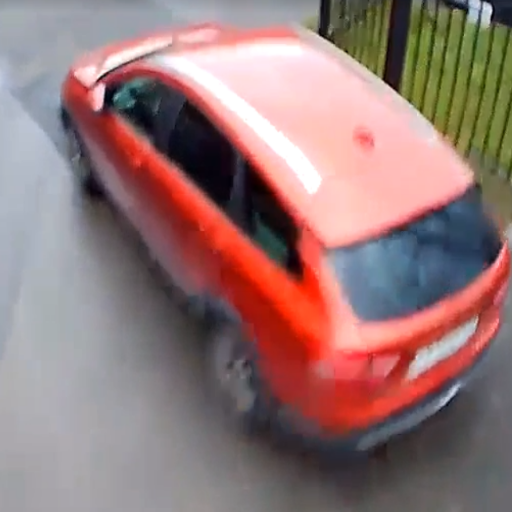Car: (58, 21, 505, 461)
